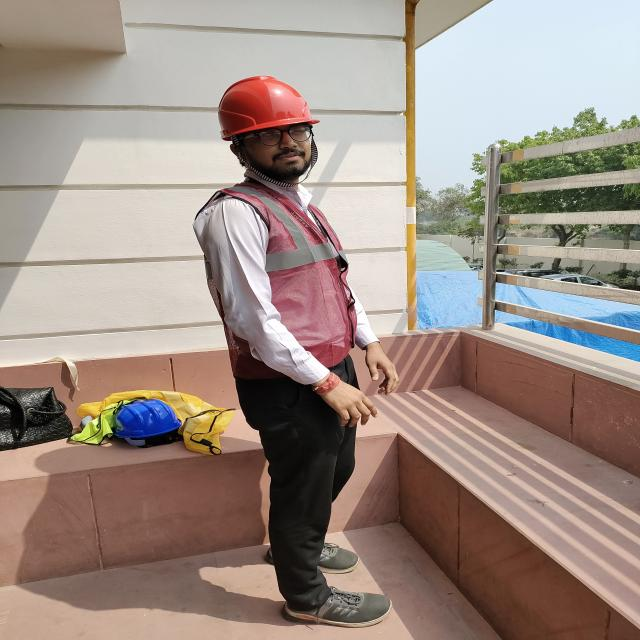safe: (193, 77, 366, 624)
